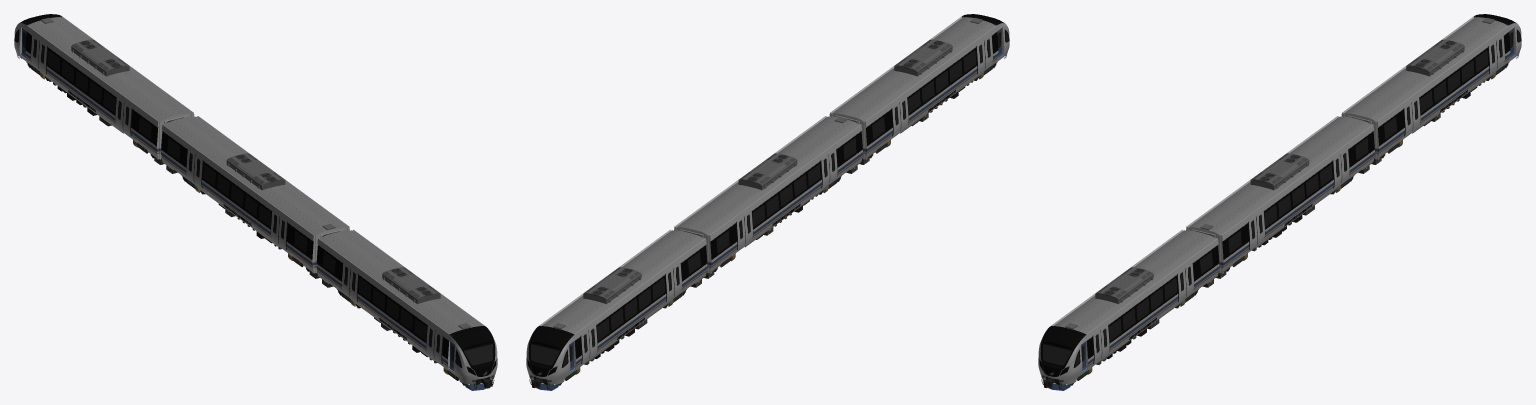
File: kereta-api.glb
3 renders of one model, left to right at view 1: azimuth 30°, elevation 25°; view 2: azimuth 150°, elevation 25°; view 3: azimuth 330°, elevation 25°, orthographic.
Visible parts, largest first — view 1: Cube.012, Cube.002, Cube.006; view 2: Cube.006, Cube.002, Cube.012; view 3: Cube.012, Cube.002, Cube.006.
Part boxes in pixels (<box>): Cube.012: <box>316,229,497,390</box>; Cube.002: <box>161,116,349,278</box>; Cube.006: <box>14,14,194,164</box>; Cube.006: <box>526,229,707,390</box>; Cube.002: <box>674,116,862,278</box>; Cube.012: <box>829,14,1009,164</box>; Cube.012: <box>1038,229,1219,390</box>; Cube.002: <box>1186,116,1374,278</box>; Cube.006: <box>1341,14,1521,164</box>.
Bounding box in the file's own units: 273 × 371 × 5566.
Materials: 1 (1 with a texture image).
